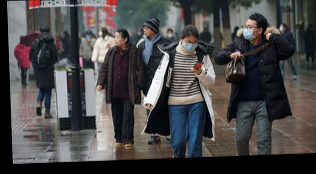with_mask: (243, 21, 257, 42), (182, 37, 199, 52), (85, 31, 92, 39), (278, 23, 284, 32), (98, 27, 103, 37), (166, 30, 173, 37)
without_mask: (142, 24, 152, 37), (114, 33, 123, 47)
